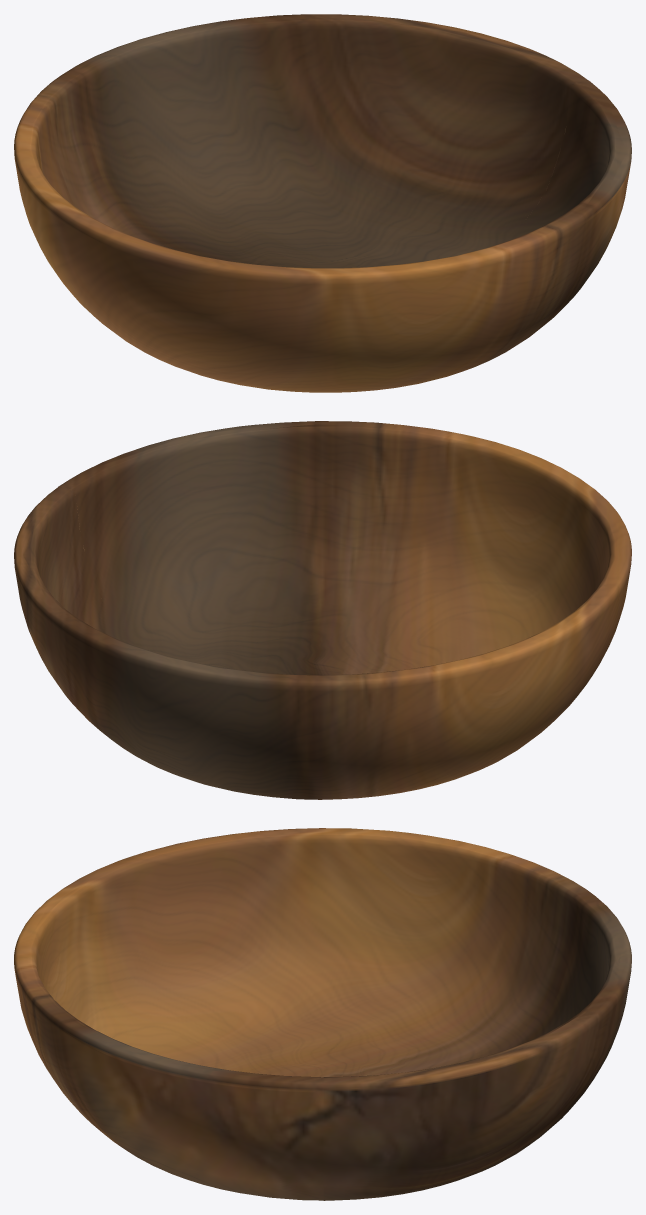
3 views of the same model, one above another, from view 1: azimuth 30°, elevation 25°; view 2: azimuth 150°, elevation 25°; view 3: azimuth 270°, elevation 25° (orthographic).
Parts seen in each view (by area): view 1: bowl_1__body; view 2: bowl_1__body; view 3: bowl_1__body.
Part boxes in pixels (<box>): bowl_1__body: <box>14,14,631,392</box>; bowl_1__body: <box>14,421,631,799</box>; bowl_1__body: <box>14,828,631,1200</box>.
Size of the model in its own units: 0.2622 by 0.084 by 0.2659.
Materials: 1 (1 with a texture image).
